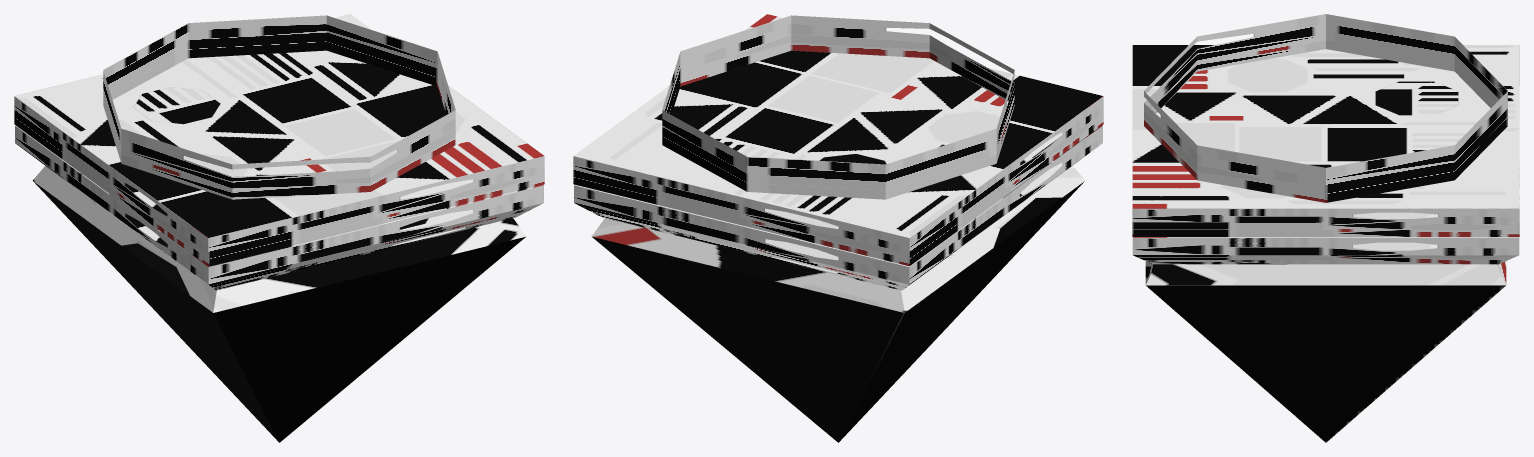
File: teleport.fbx
The picture shows the model from 3 angles, left to right: view 1: azimuth 30°, elevation 25°; view 2: azimuth 150°, elevation 25°; view 3: azimuth 270°, elevation 25°; orthographic projection.
Parts seen in each view (by area): view 1: Teleport; view 2: Teleport; view 3: Teleport.
Part boxes in pixels (box(x1,y1,x2,y2)): Teleport: box(14, 14, 544, 442); Teleport: box(573, 14, 1103, 442); Teleport: box(1132, 14, 1519, 442).
Size of the model in its own units: 100 by 100 by 100.
